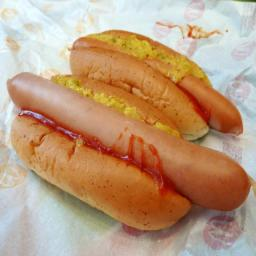hotdog: (7, 17, 248, 256)
